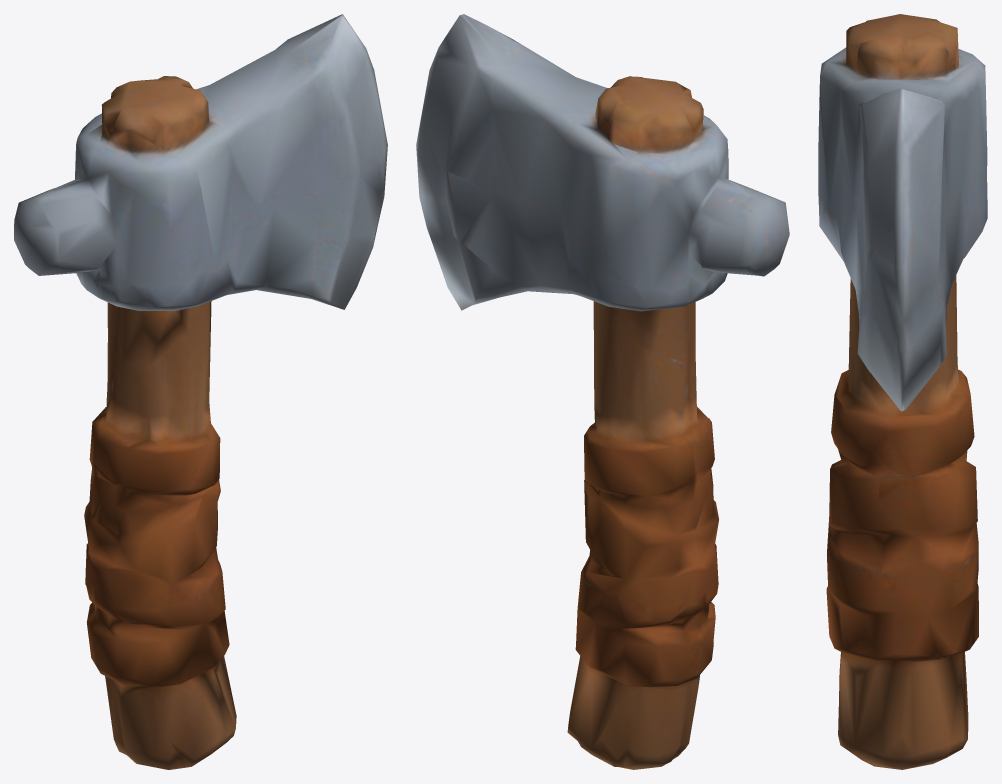
File: skill_axe-CutetjbJ.glb
3 renders of one model, left to right at view 1: azimuth 30°, elevation 25°; view 2: azimuth 150°, elevation 25°; view 3: azimuth 270°, elevation 25°, orthographic. The views are drawn at different scales.
Parts seen in each view (by area): view 1: tripo_node_fb08b5ae-e1a8-4448-b3ca-58344c7dce52; view 2: tripo_node_fb08b5ae-e1a8-4448-b3ca-58344c7dce52; view 3: tripo_node_fb08b5ae-e1a8-4448-b3ca-58344c7dce52.
Boxes of the visible parts, x1,y1,x2,y2 form: tripo_node_fb08b5ae-e1a8-4448-b3ca-58344c7dce52: [14, 14, 387, 769]; tripo_node_fb08b5ae-e1a8-4448-b3ca-58344c7dce52: [416, 14, 789, 769]; tripo_node_fb08b5ae-e1a8-4448-b3ca-58344c7dce52: [818, 14, 987, 769].
Bounding box in the file's own units: 0.5473 × 1 × 0.2021.
1 material, 1 textured.
